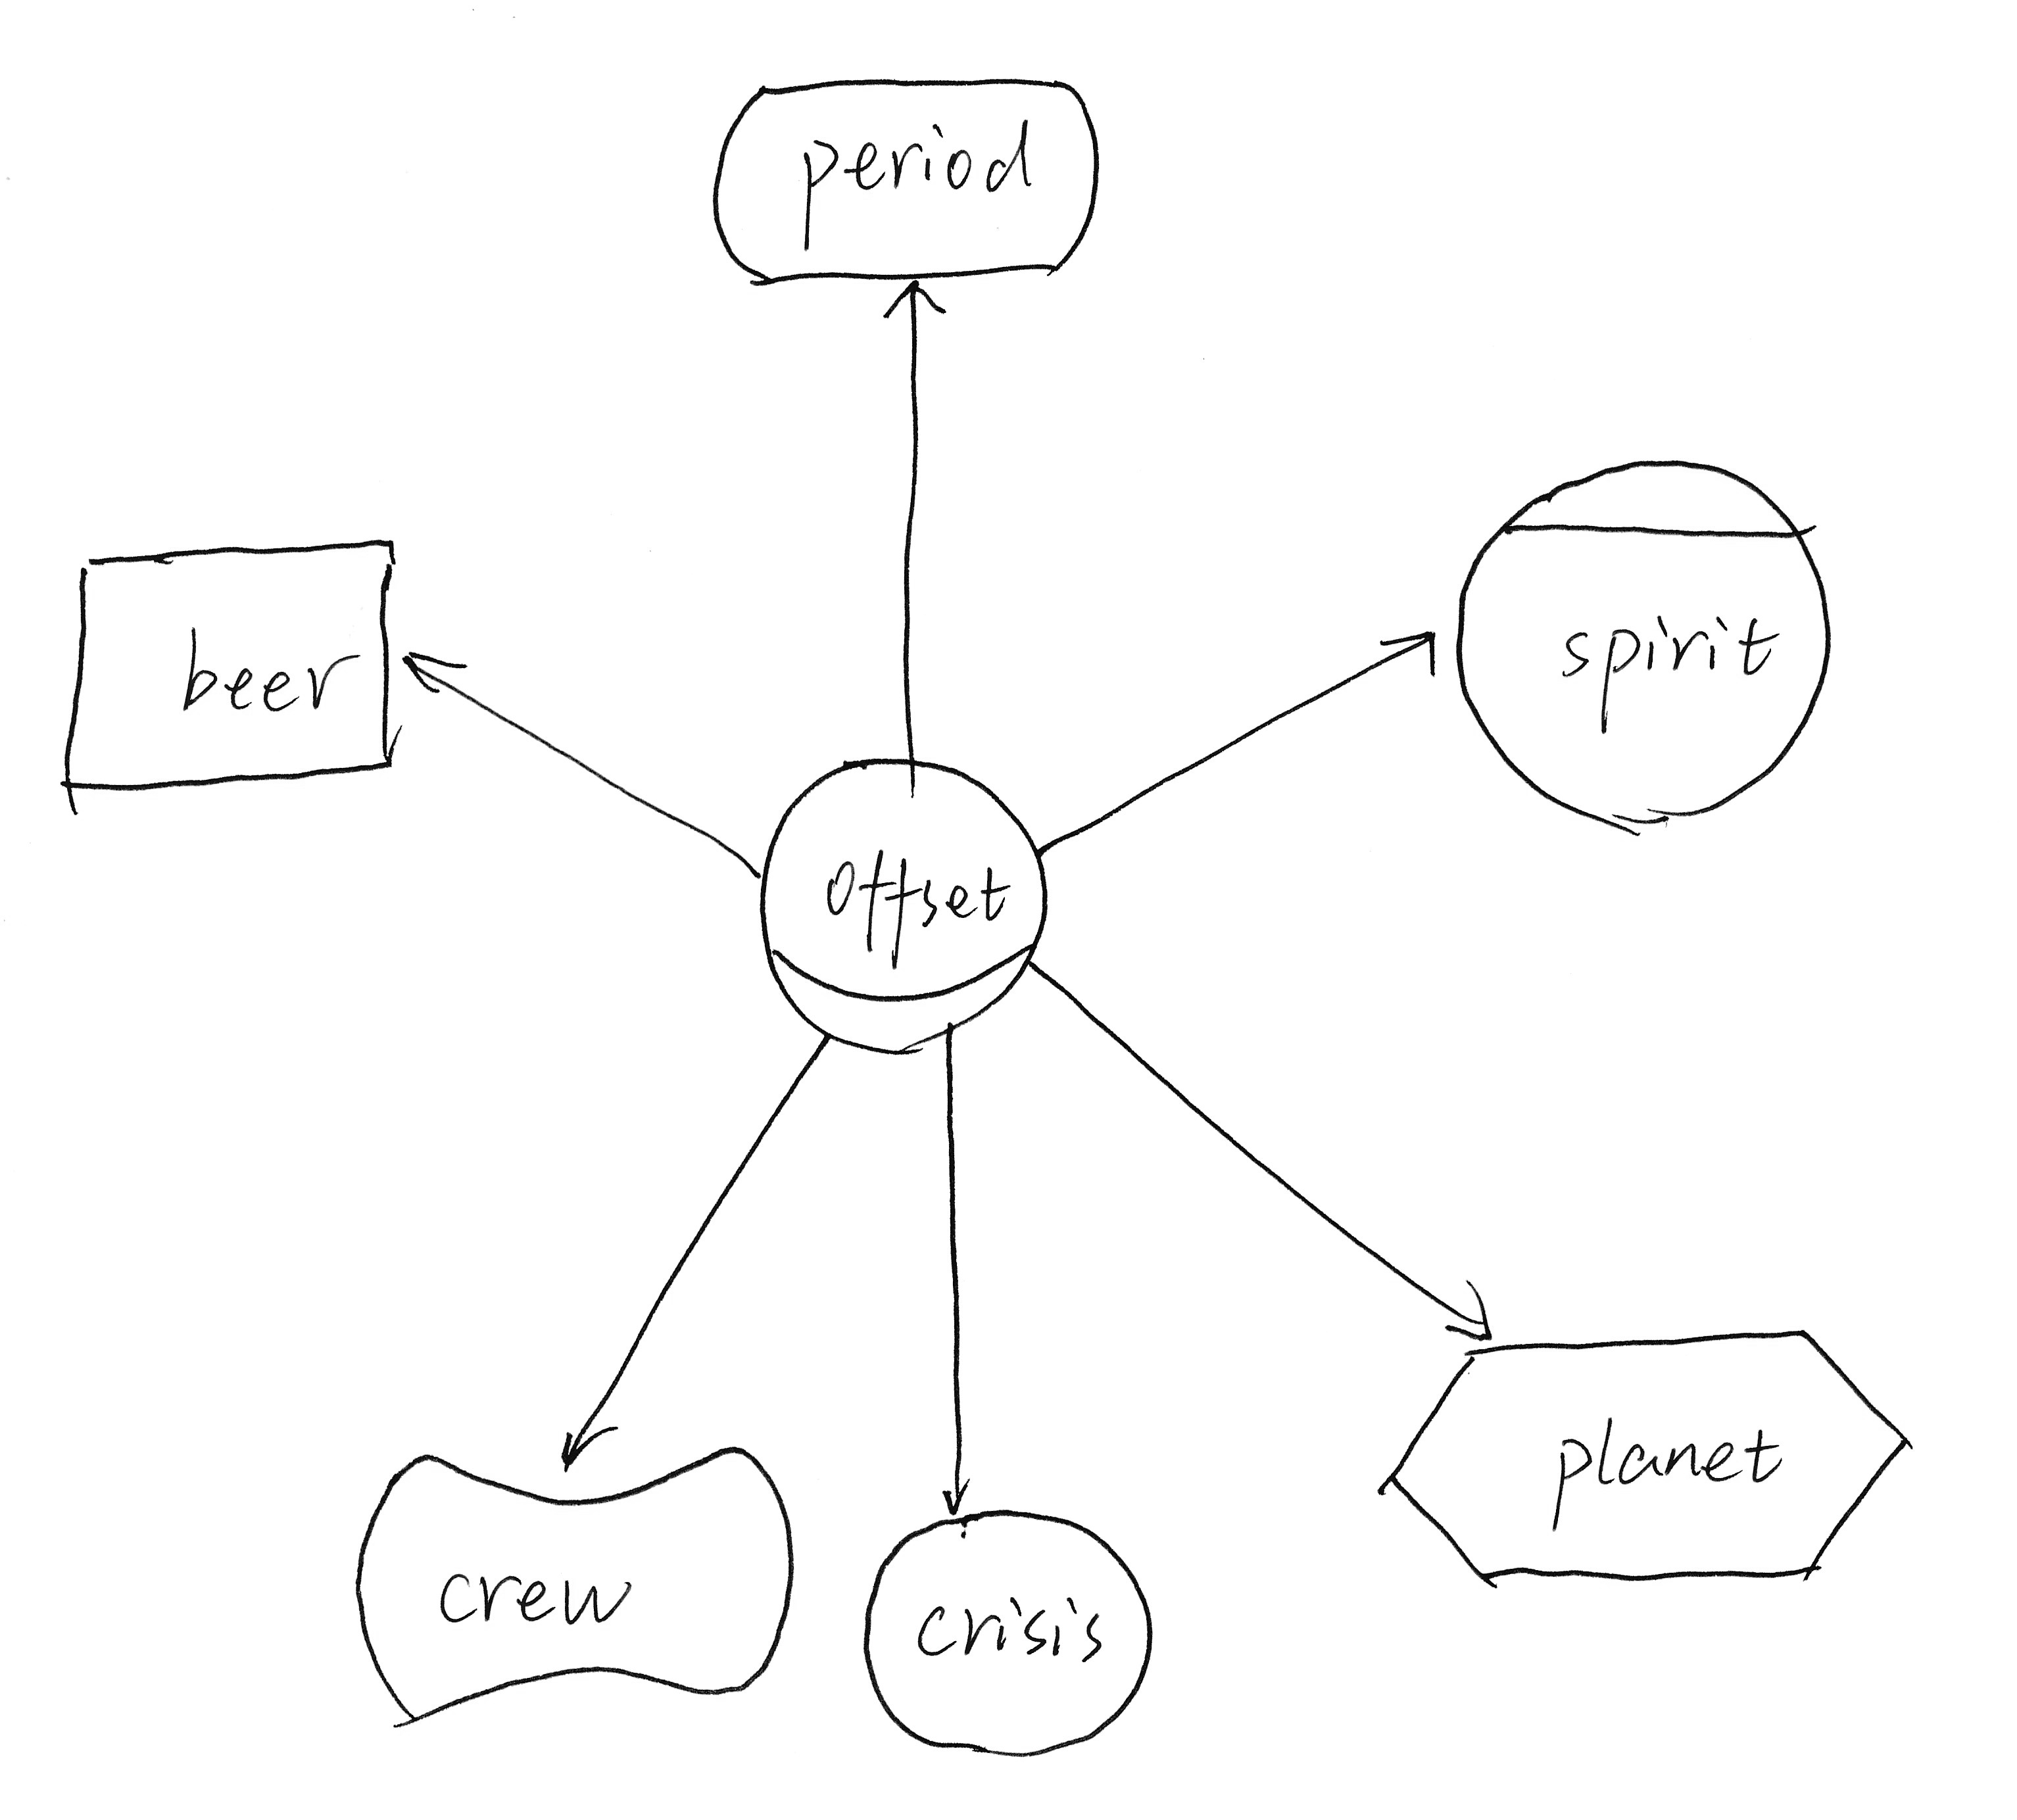actor: (849, 1493, 1168, 1774)
agent: (1437, 439, 1847, 854)
arrow: (1418, 1260, 1504, 1358), (1376, 603, 1457, 697), (536, 1409, 638, 1483), (392, 636, 476, 717), (917, 1474, 996, 1537), (871, 274, 959, 325)
goal: (696, 63, 1114, 300)
quality: (339, 1434, 812, 1741)
resource: (44, 524, 416, 822)
role: (745, 738, 1066, 1070)
task: (1365, 1312, 1927, 1609)
